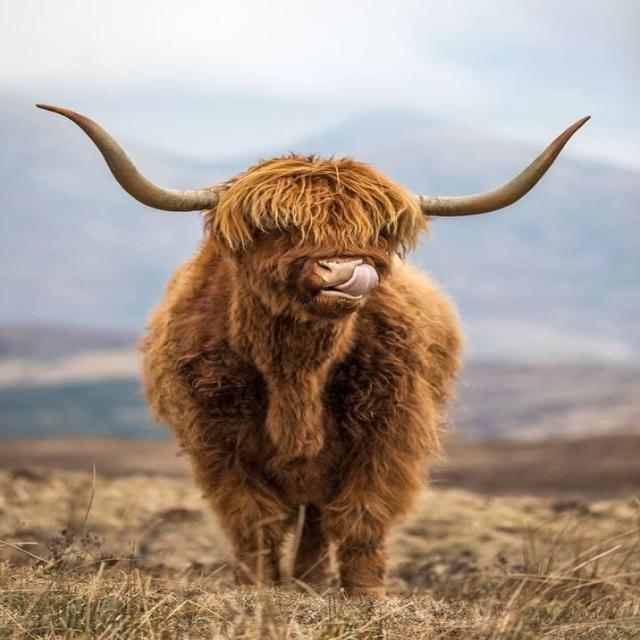Herbivorous: (41, 106, 586, 609)
